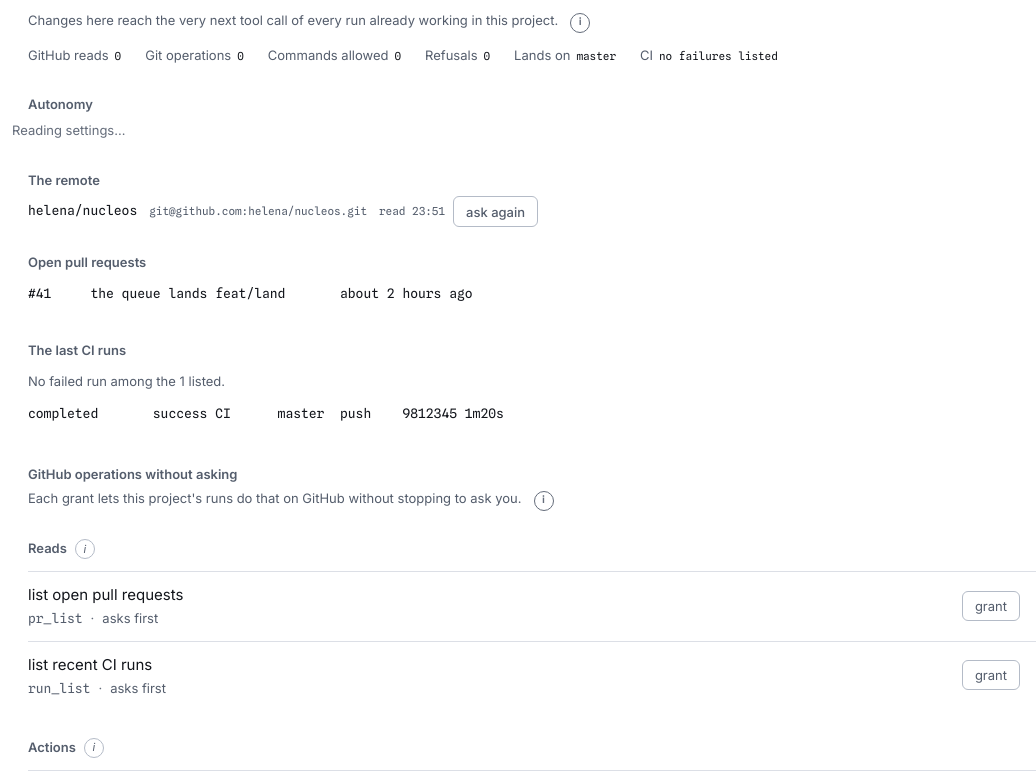
what runs on its own › grants an operation only on the second press, and says so on the row
Step 1. Click the button "grant" in the row of "list open pull requests" → (991, 606), box [962, 591, 1020, 621]
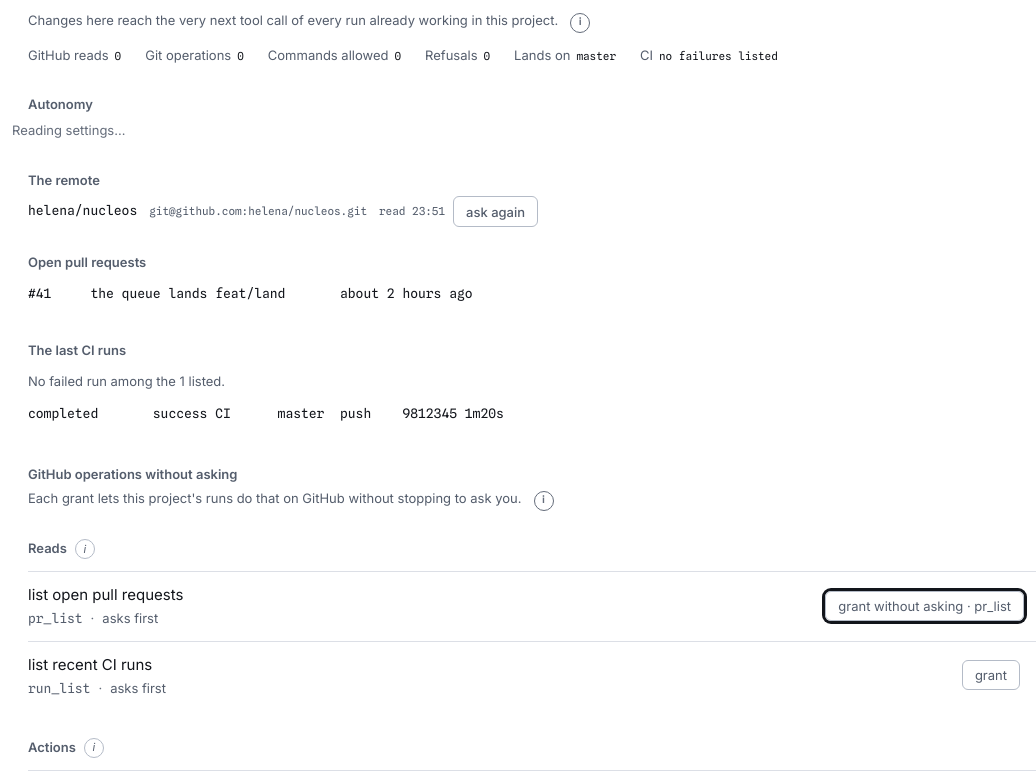
expect the button "grant without asking · pr_list" is shown: met
Step 2. Click the button "grant without asking · pr_list" → (925, 606), box [825, 591, 1024, 621]
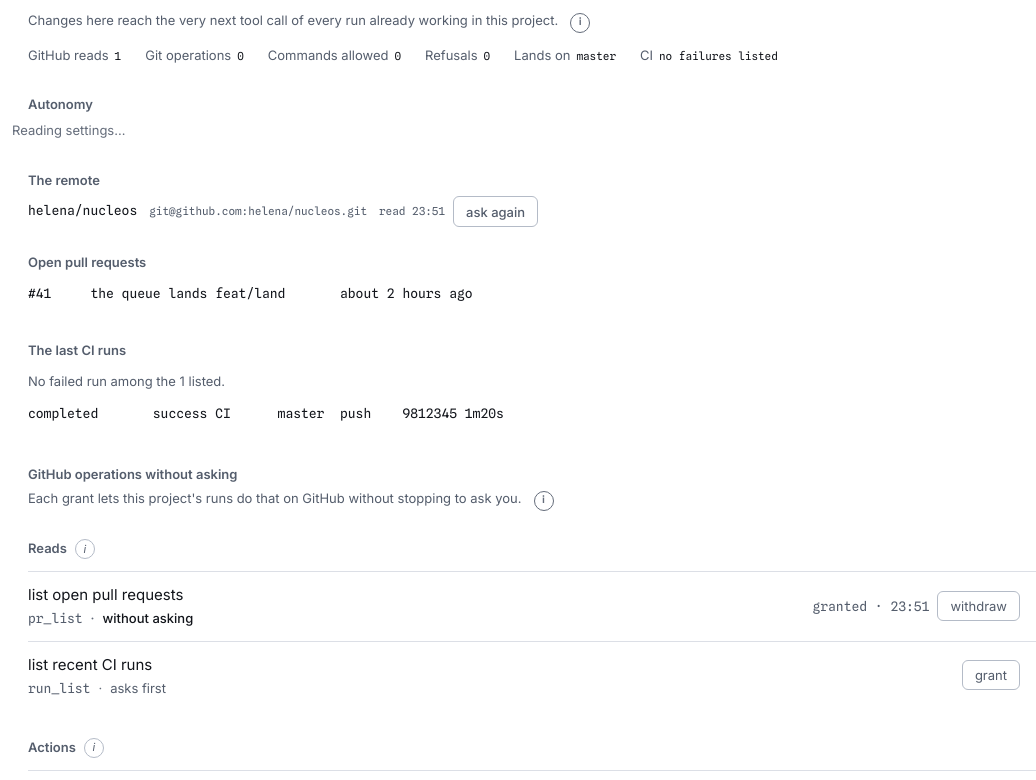
expect the list item with aria-label "operation pr_list" reads "list open pull requests pr_list without asking granted · 23:51 withdraw": met, box [28, 585, 1020, 626]
